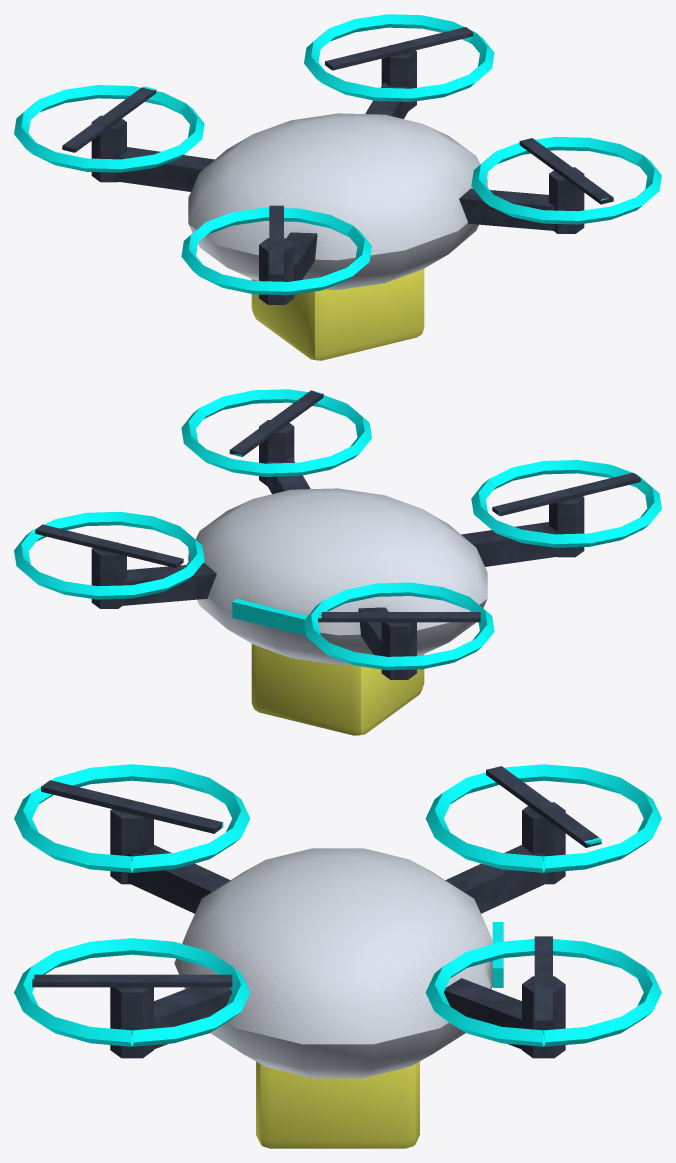
File: courier_drone.fbx
3 views of the same model, one above another, from view 1: azimuth 30°, elevation 25°; view 2: azimuth 150°, elevation 25°; view 3: azimuth 270°, elevation 25° (orthographic). The views are drawn at different scales.
Parts seen in each view (by area): view 1: courier_drone, courier_drone_glow; view 2: courier_drone, courier_drone_glow; view 3: courier_drone, courier_drone_glow.
Boxes of the visible parts, left/top/right/bottom form: courier_drone: left=62, top=27, right=613, bottom=360; courier_drone_glow: left=14, top=14, right=661, bottom=295; courier_drone: left=35, top=390, right=640, bottom=735; courier_drone_glow: left=14, top=389, right=661, bottom=670; courier_drone: left=32, top=766, right=601, bottom=1148; courier_drone_glow: left=14, top=764, right=661, bottom=1046.
Size of the model in its own units: 356 by 144 by 356.
1 material, 1 textured.
